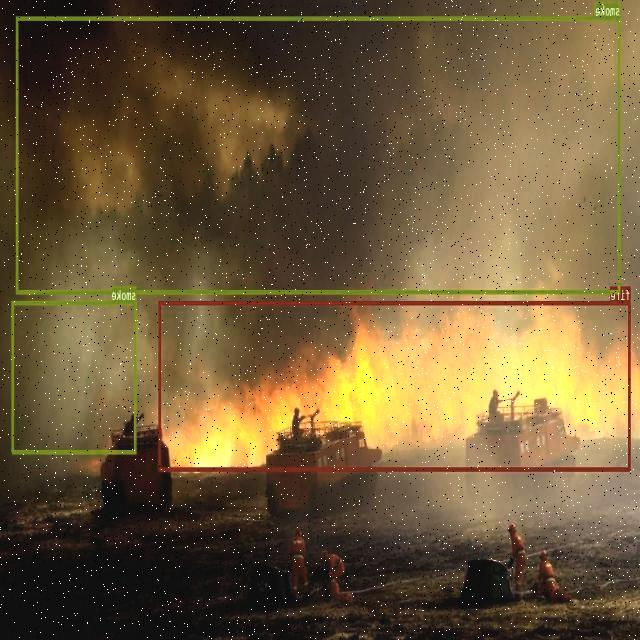fire: (159, 300, 631, 470)
smoke: (17, 16, 621, 293), (12, 300, 137, 454)
